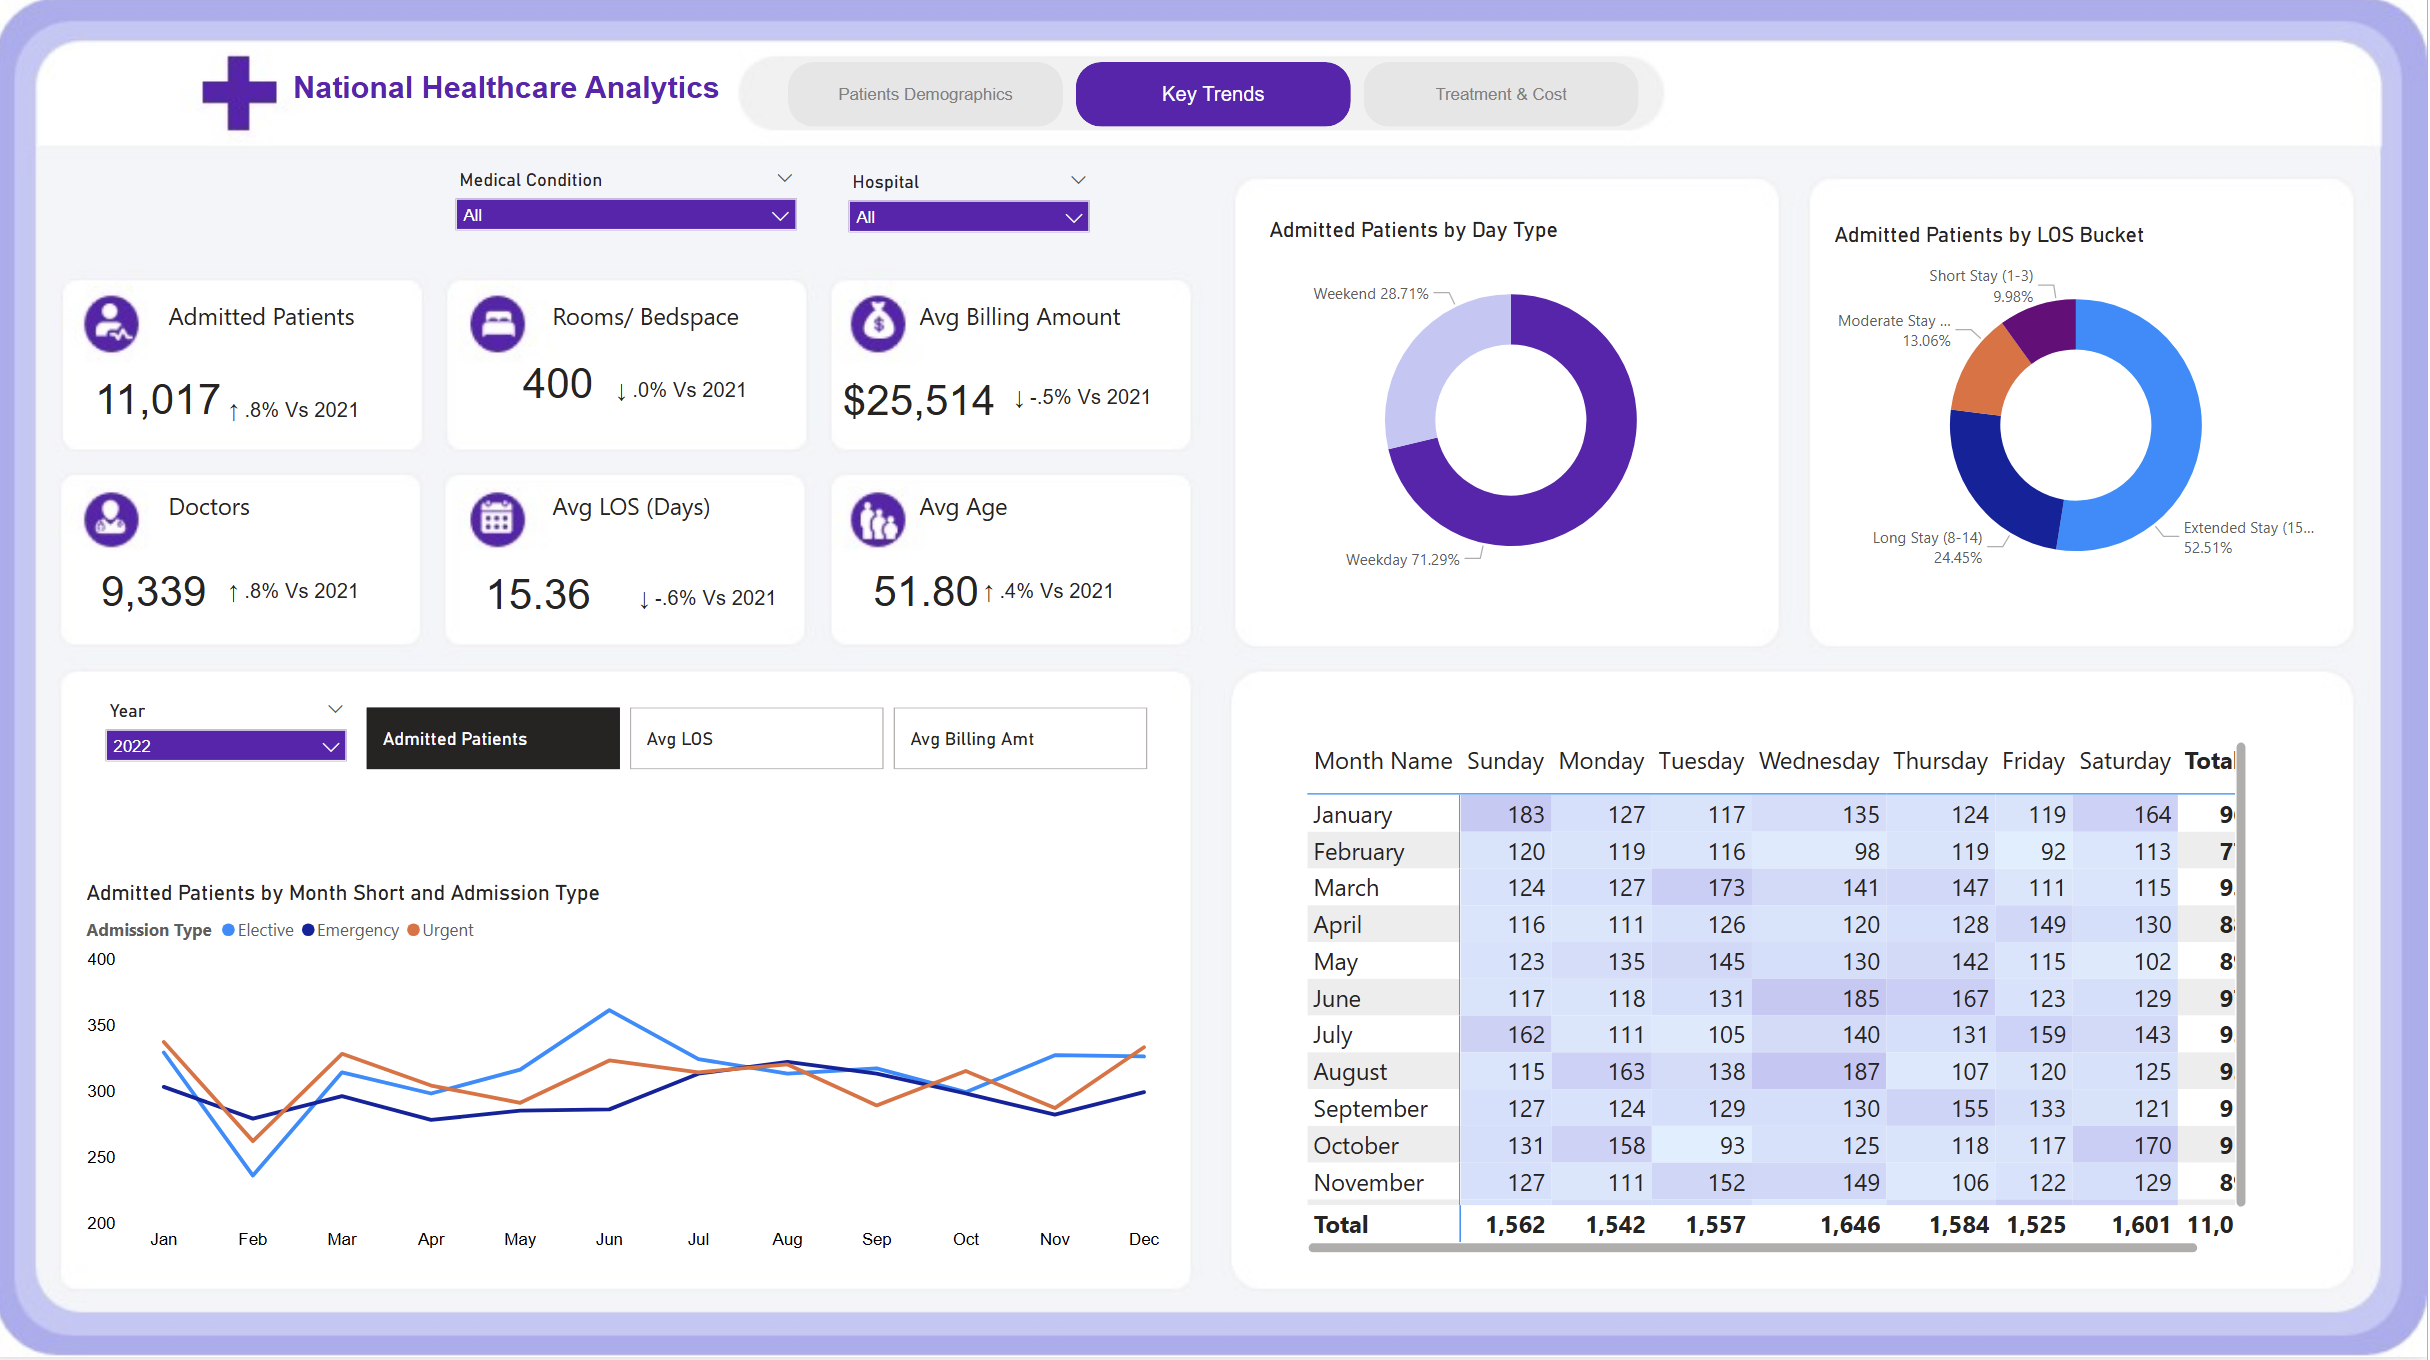

This screenshot's page, from the dashboard's own definition file:
{"tool":"powerbi","page":{"name":"Key Trends","canvas":[1920,1080],"ordinal":1},"visuals":[{"type":"card","fields":{"Values":["DAX.Admitted Patients"]},"box":[22.8,266.7,214.7,113.9],"z":0},{"type":"textbox","box":[133.4,240.7,198.4,42.3],"z":1000},{"type":"textbox","box":[435.9,240.7,191.9,42.3],"z":2000},{"type":"textbox","box":[725.4,240.7,208.2,42.3],"z":3000},{"type":"textbox","box":[725.4,390.4,218,55.3],"z":4000},{"type":"textbox","box":[435.9,390.4,169.2,65.1],"z":5000},{"type":"textbox","box":[133.4,390.4,198.4,55.3],"z":6000},{"type":"card","fields":{"Values":["DAX.Rooms"]},"box":[337.6,263.7,216.3,94.9],"z":7000},{"type":"card","fields":{"Values":["DAX.Avg Billing Amt"]},"box":[622.4,269,216.3,110.8],"z":8000},{"type":"card","fields":{"Values":["DAX.Doctors"]},"box":[21.1,416.7,211,116],"z":9000},{"type":"card","fields":{"Values":["DAX.Avg LOS"]},"box":[321.8,422,216.3,110.8],"z":10000},{"type":"card","fields":{"Values":["DAX.Average age"]},"box":[627.7,416.7,216.3,116],"z":11000},{"type":"card","fields":{"Values":["DAX.Adm YoY"]},"box":[137.1,295.4,200.4,79.1],"z":12000},{"type":"card","fields":{"Values":["DAX.Room YoY"]},"box":[458.9,279.6,168.8,79.1],"z":13000},{"type":"card","fields":{"Values":["DAX.Doc YoY"]},"box":[153,437.8,168.8,79.1],"z":14000},{"type":"card","fields":{"Values":["DAX.LOS YoY"]},"box":[464.2,443.1,200.4,79.1],"z":15000},{"type":"card","fields":{"Values":["DAX.Age YoY"]},"box":[733.2,437.8,200.4,79.1],"z":16000},{"type":"card","fields":{"Values":["DAX.Bill YoY"]},"box":[759.6,284.8,200.4,79.1],"z":17000},{"type":"slicer","fields":{"Values":["Calendar.Year"]},"box":[78.8,556.7,210.5,65.2],"z":18000},{"type":"slicer","fields":{"Values":["DimCondition.Medical Condition"]},"box":[354.7,137.7,288.7,67.9],"z":19000},{"type":"advancedSlicerVisual","fields":{"Values":["KPI.KPI"]},"box":[289.2,562.1,627.3,59.7],"z":20000},{"type":"lineChart","fields":{"Y":["DAX.Admitted Patients"],"Series":["HealthData.Admission Type"],"Category":["Calendar.Month Short"]},"box":[69,703.4,872.4,300],"z":21000},{"type":"donutChart","fields":{"Y":["DAX.Admitted Patients"],"Category":["Calendar.Day Type"]},"box":[1002.1,180.6,391.1,301.4],"z":22000},{"type":"donutChart","fields":{"Y":["DAX.Admitted Patients"],"Category":["HealthData.LOS Bucket"]},"box":[1447.5,184.7,391.1,301.4],"z":23000},{"type":"pivotTable","fields":{"Rows":["Calendar.Month Name"],"Columns":["Calendar.Week"],"Values":["DAX.Admitted Patients"]},"box":[1032,589.3,750.9,414.1],"z":24000},{"type":"pageNavigator","box":[627.3,58.4,672.1,51.6],"z":25000},{"type":"slicer","fields":{"Values":["HealthData.Hospital"]},"box":[665.3,139.9,210.5,65.2],"z":26000},{"type":"textbox","box":[232.2,59.7,482,50.2],"z":26001}]}

Visuals, with their boxes in screenshot pixels (x1, y1, x2, y2), scaled from the page's 1920x1080 canvas onto the 2430x1360 screenshot:
card - DAX.Admitted Patients: <bbox>29, 336, 301, 479</bbox>
textbox: <bbox>169, 303, 420, 356</bbox>
textbox: <bbox>552, 303, 795, 356</bbox>
textbox: <bbox>918, 303, 1182, 356</bbox>
textbox: <bbox>918, 492, 1194, 561</bbox>
textbox: <bbox>552, 492, 766, 574</bbox>
textbox: <bbox>169, 492, 420, 561</bbox>
card - DAX.Rooms: <bbox>427, 332, 701, 452</bbox>
card - DAX.Avg Billing Amt: <bbox>788, 339, 1061, 478</bbox>
card - DAX.Doctors: <bbox>27, 525, 294, 671</bbox>
card - DAX.Avg LOS: <bbox>407, 531, 681, 671</bbox>
card - DAX.Average age: <bbox>794, 525, 1068, 671</bbox>
card - DAX.Adm YoY: <bbox>174, 372, 427, 472</bbox>
card - DAX.Room YoY: <bbox>581, 352, 794, 452</bbox>
card - DAX.Doc YoY: <bbox>194, 551, 407, 651</bbox>
card - DAX.LOS YoY: <bbox>588, 558, 841, 658</bbox>
card - DAX.Age YoY: <bbox>928, 551, 1182, 651</bbox>
card - DAX.Bill YoY: <bbox>961, 359, 1215, 458</bbox>
slicer - Calendar.Year: <bbox>100, 701, 366, 783</bbox>
slicer - DimCondition.Medical Condition: <bbox>449, 173, 814, 259</bbox>
advancedSlicerVisual - KPI.KPI: <bbox>366, 708, 1160, 783</bbox>
lineChart - DAX.Admitted Patients x HealthData.Admission Type: <bbox>87, 886, 1191, 1264</bbox>
donutChart - DAX.Admitted Patients x Calendar.Day Type: <bbox>1268, 227, 1763, 607</bbox>
donutChart - DAX.Admitted Patients x HealthData.LOS Bucket: <bbox>1832, 233, 2327, 612</bbox>
pivotTable - Calendar.Month Name x Calendar.Week: <bbox>1306, 742, 2256, 1264</bbox>
pageNavigator: <bbox>794, 74, 1645, 139</bbox>
slicer - HealthData.Hospital: <bbox>842, 176, 1108, 258</bbox>
textbox: <bbox>294, 75, 904, 138</bbox>
